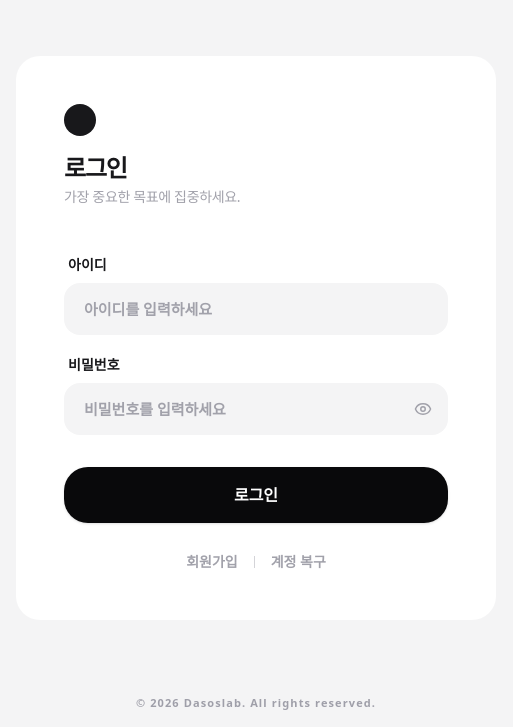
LoginPageClient › shows a login error without redirecting when credentials are invalid
Type "user123" into the field labelled "아이디" at coordinates (256, 309), box [64,283,448,335]
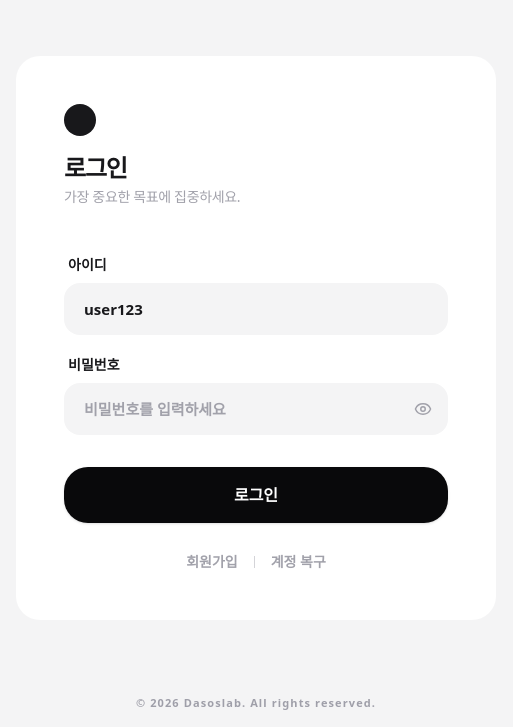
Type "wrong-password" into the password field labelled "비밀번호" at coordinates (256, 409), box [64,383,448,435]
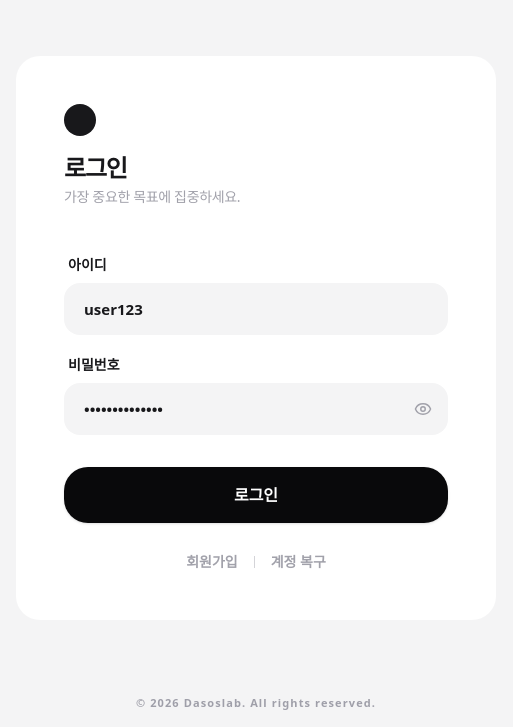
Click the button "로그인" at coordinates (256, 495), box [64,467,448,523]
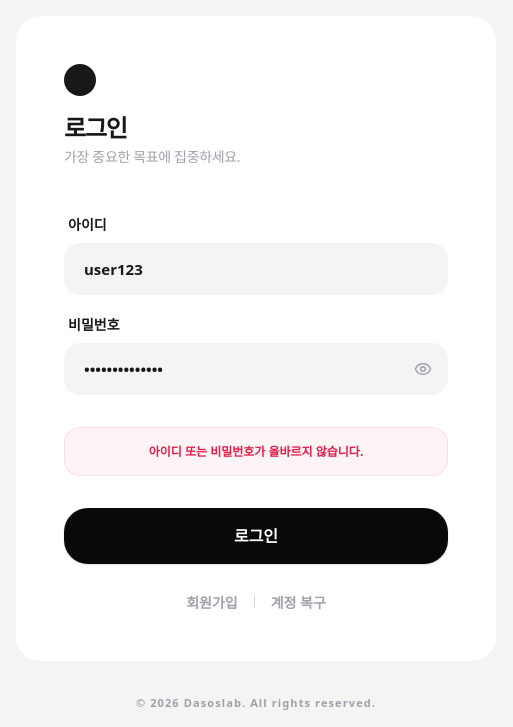
Expected: the text "아이디 또는 비밀번호가 올바르지 않습니다." is shown, [149,442,363,460]
